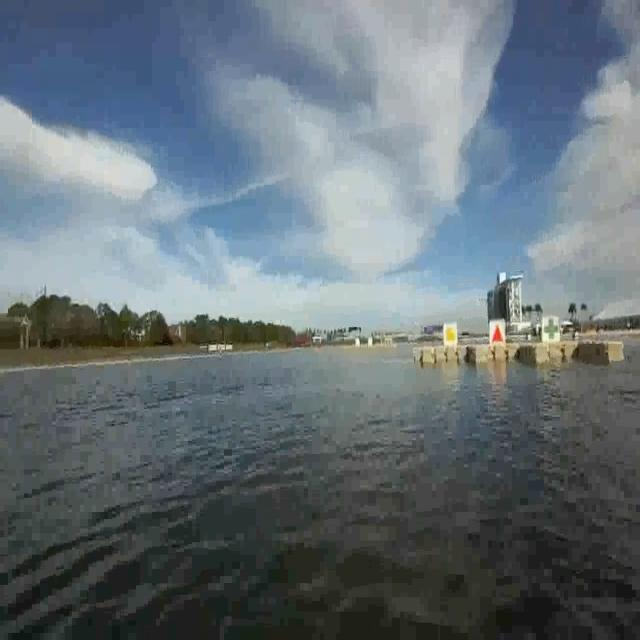blue-cross: (542, 318, 558, 345)
red-dot: (489, 317, 507, 347)
yellow-duck: (446, 326, 457, 346)
